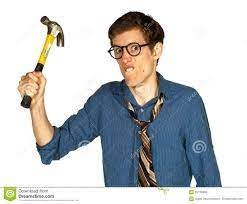hammer: (18, 15, 65, 109)
person: (89, 11, 222, 187)
